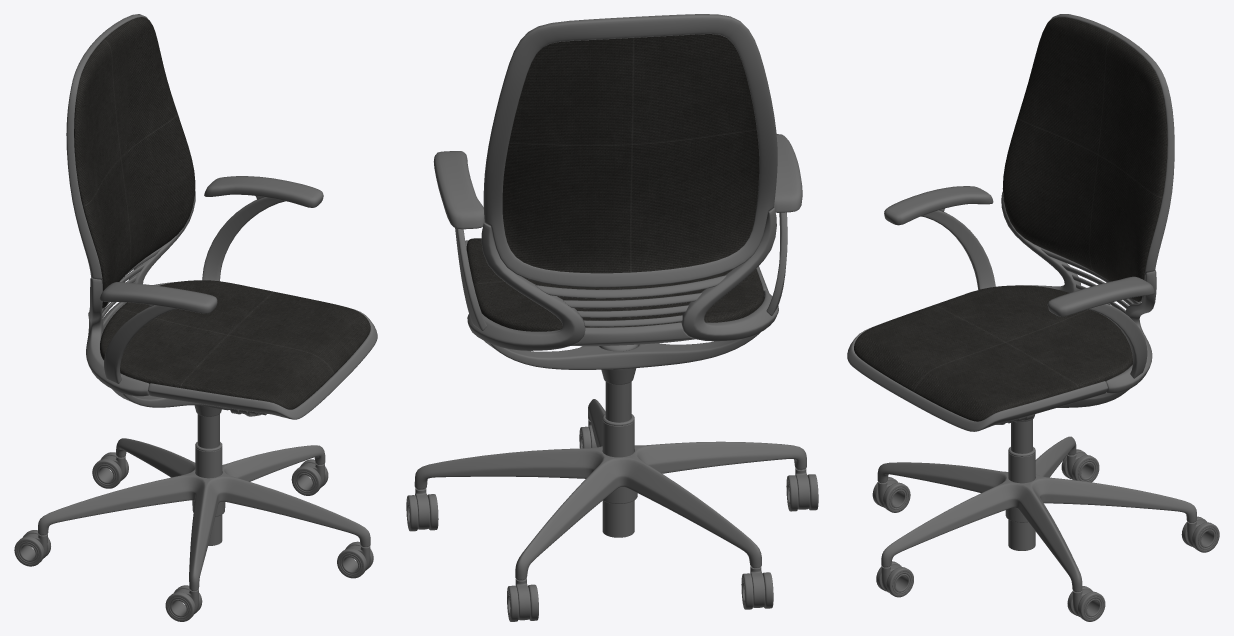
3 views of the same model, side by side, from view 1: azimuth 30°, elevation 25°; view 2: azimuth 150°, elevation 25°; view 3: azimuth 270°, elevation 25° (orthographic). The views are drawn at different scales.
Parts seen in each view (by area): view 1: 办公椅06; view 2: 办公椅06; view 3: 办公椅06.
Boxes of the visible parts, left/top/right/bottom form: 办公椅06: left=14, top=14, right=377, bottom=621; 办公椅06: left=406, top=14, right=818, bottom=621; 办公椅06: left=847, top=14, right=1219, bottom=621.
Bounding box in the file's own units: 0.7234 × 1.09 × 0.7488.
6 materials, 2 textured.
